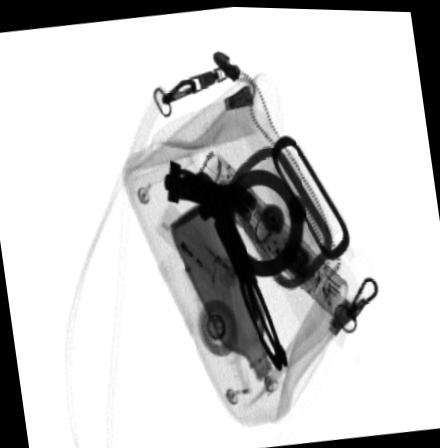Baton: (199, 152, 346, 317)
HandCuffs: (163, 162, 304, 370)
Lighter: (156, 205, 235, 292)
